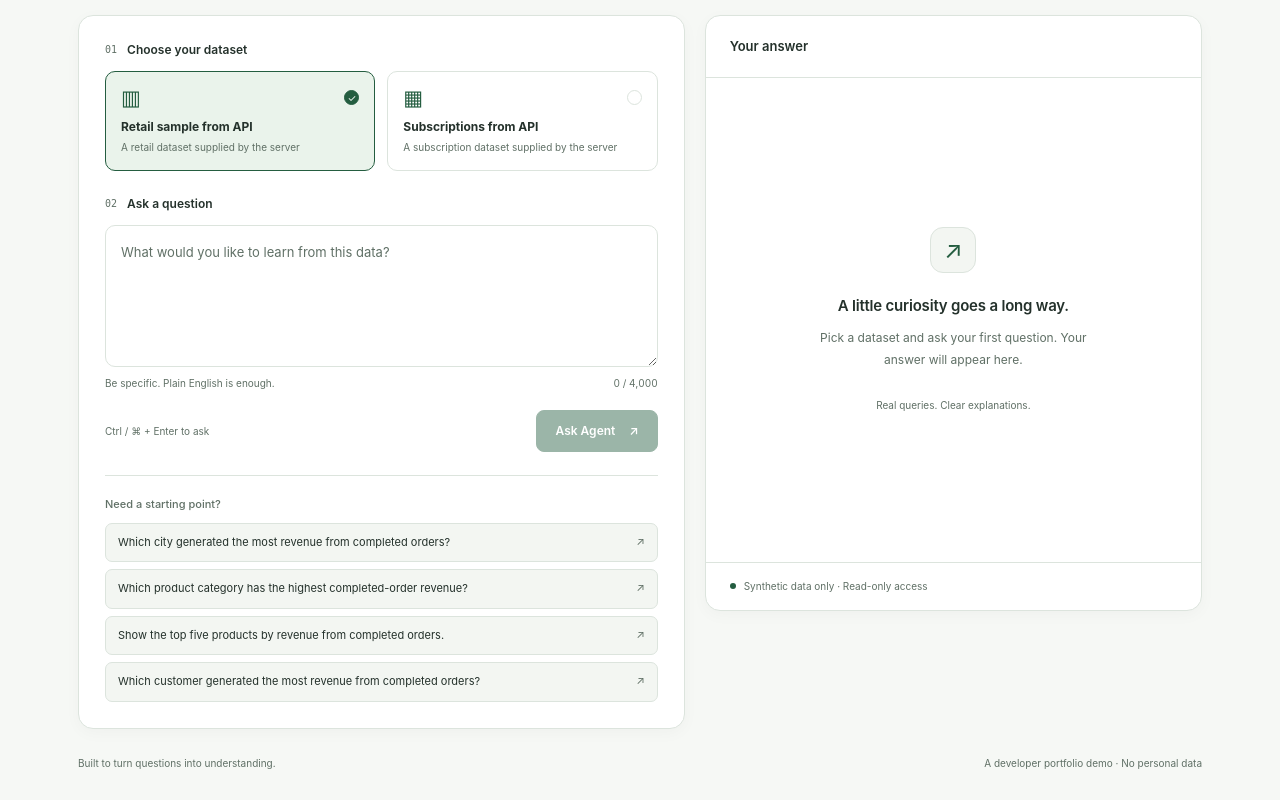
Test case: public analyst workspace › populates an example without automatically submitting it
The image size is (1280, 800).
(page scrolled)
Expected: the radio button labelled "Retail sample" is enabled, [105,71,375,171]
Click the button "Which city generated the most revenue from completed orders?": (381, 542) [105,523,658,562]
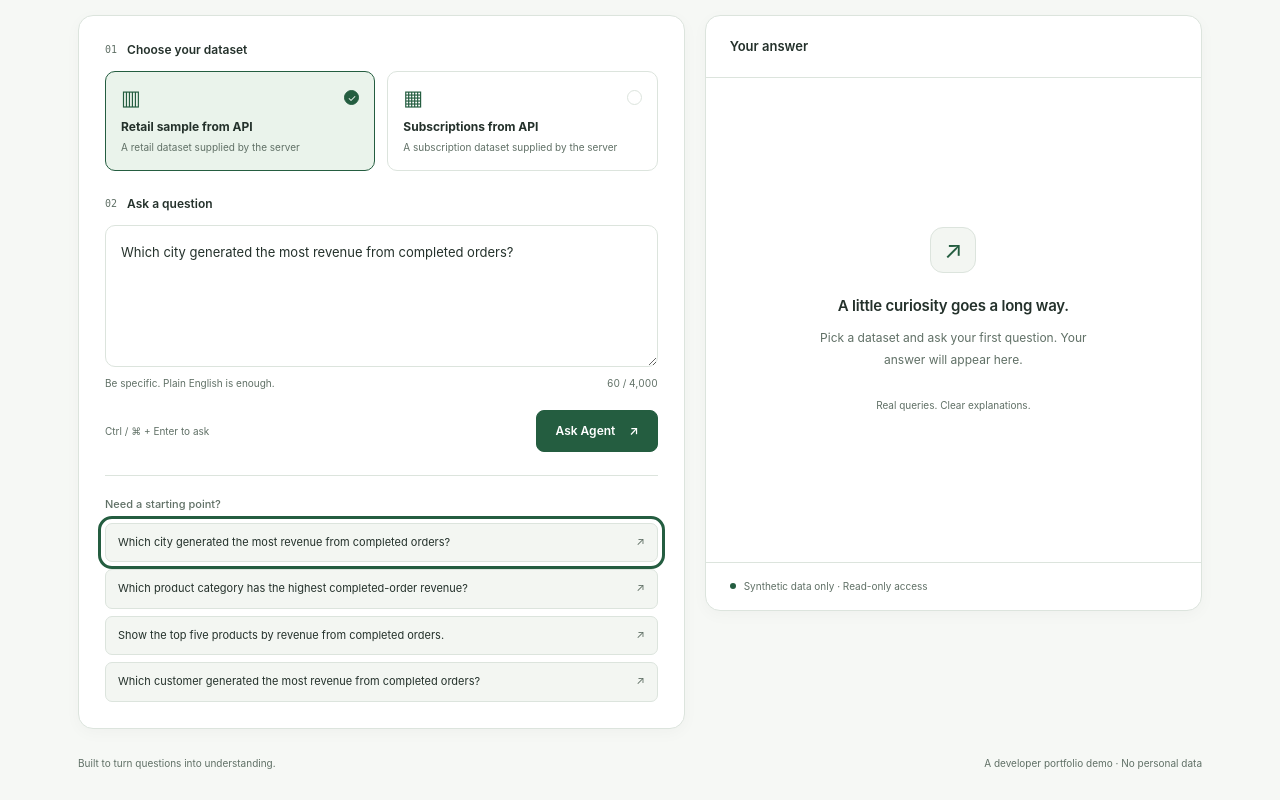
Expected: the text box labelled "02 Ask a question" holds "Which city generated the most revenue from completed orders?", [105,225,658,367]
